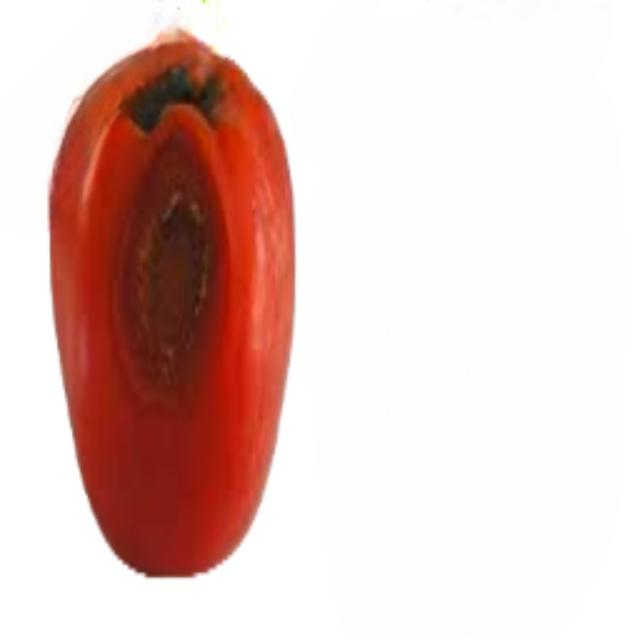defect: (41, 23, 298, 581)
